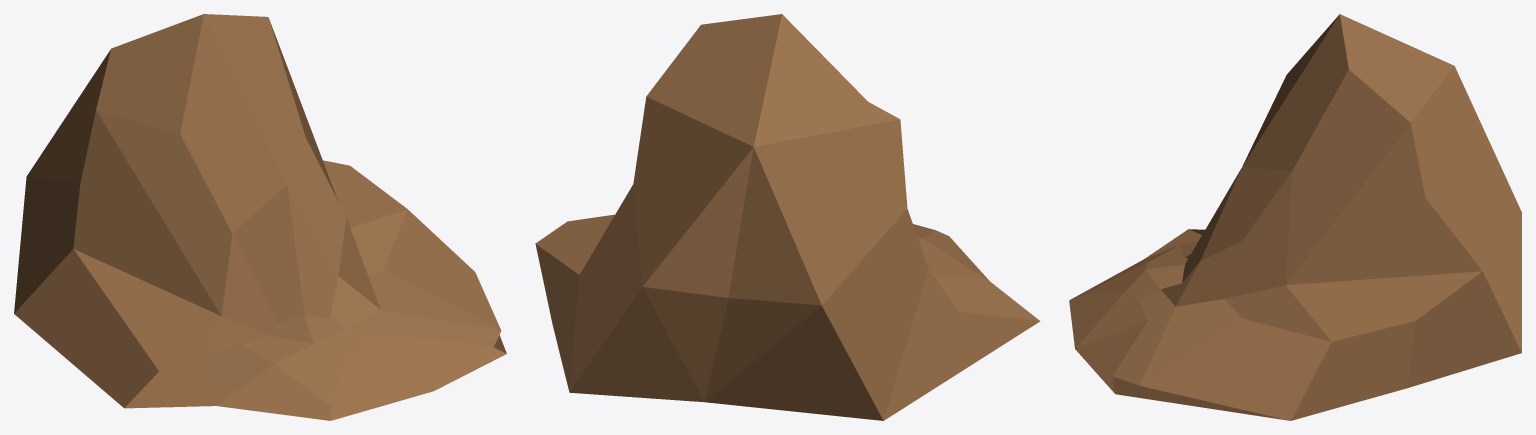
File: Rock_13_Light_Brown.fbx
3 views of the same model, side by side, from view 1: azimuth 30°, elevation 25°; view 2: azimuth 150°, elevation 25°; view 3: azimuth 270°, elevation 25° (orthographic). The views are drawn at different scales.
Visible parts, largest first — view 1: Rock_13_Light_Brown; view 2: Rock_13_Light_Brown; view 3: Rock_13_Light_Brown.
Part boxes in pixels (x1,y1,x2,y2): Rock_13_Light_Brown: (14,14,506,420); Rock_13_Light_Brown: (535,14,1040,420); Rock_13_Light_Brown: (1069,14,1521,420).
Size of the model in its own units: 335 by 239 by 335.
